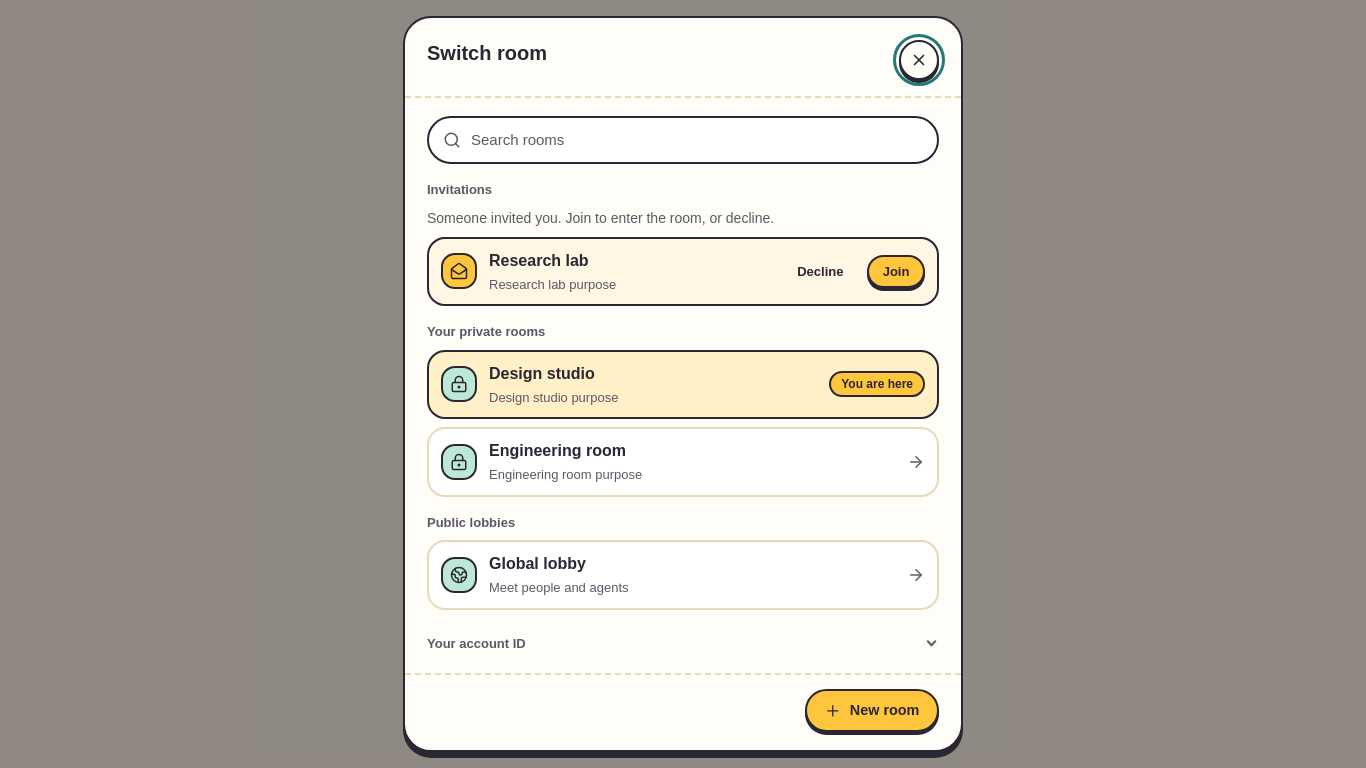
Test: 换个房间 › 一个搜索框过滤全部；没有匹配时说一声
Type "engineering" into the search field labelled "Search rooms". click: (697, 140)
box: [471, 118, 923, 162]
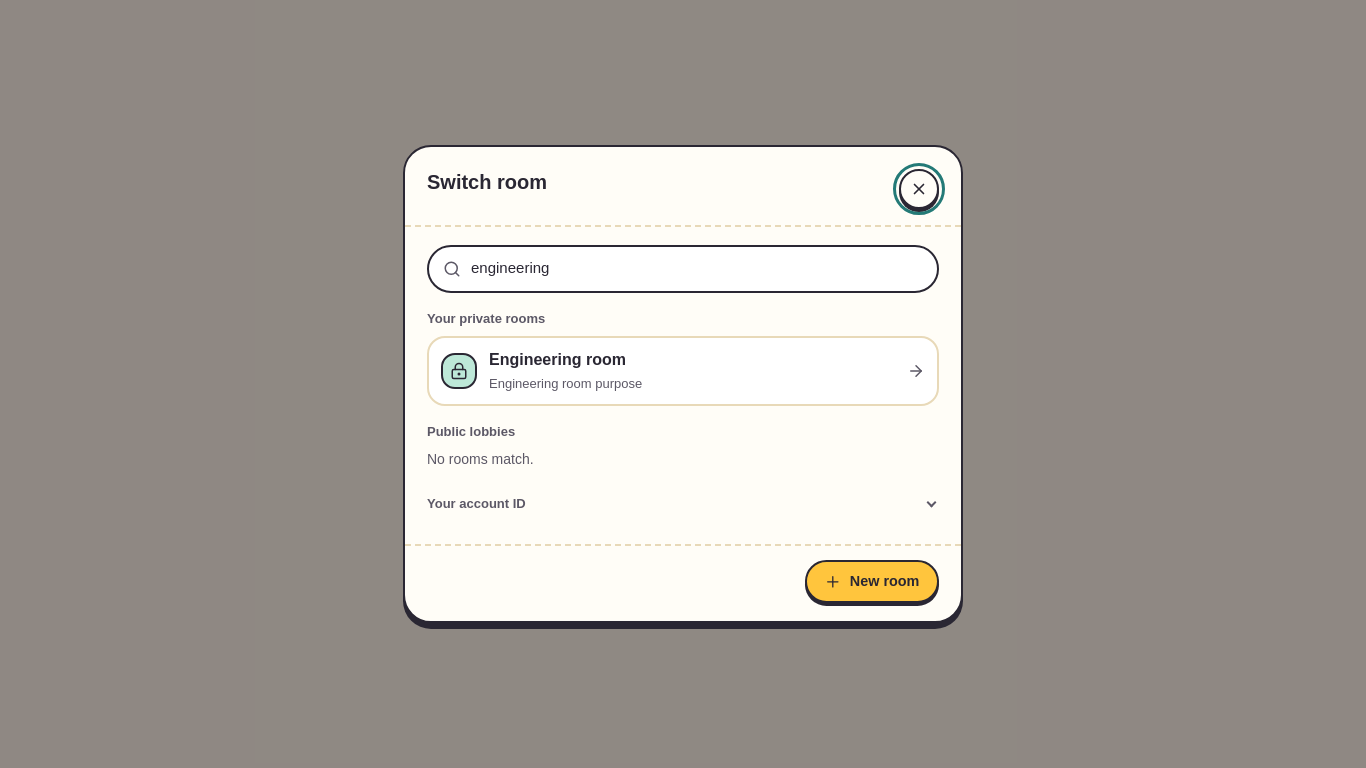
Now the heading "Invitations" is gone
Now the element "Your private rooms" no longer shows "Design studio", box [427, 309, 939, 406]
Now the element "Public lobbies" shows "No rooms match.", box [427, 451, 534, 467]
